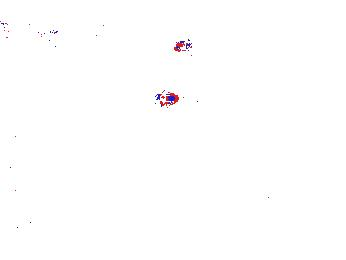red belly glassfish: (156, 86, 181, 110), (172, 37, 194, 54)
redtail glassfish: (1, 8, 62, 48)
